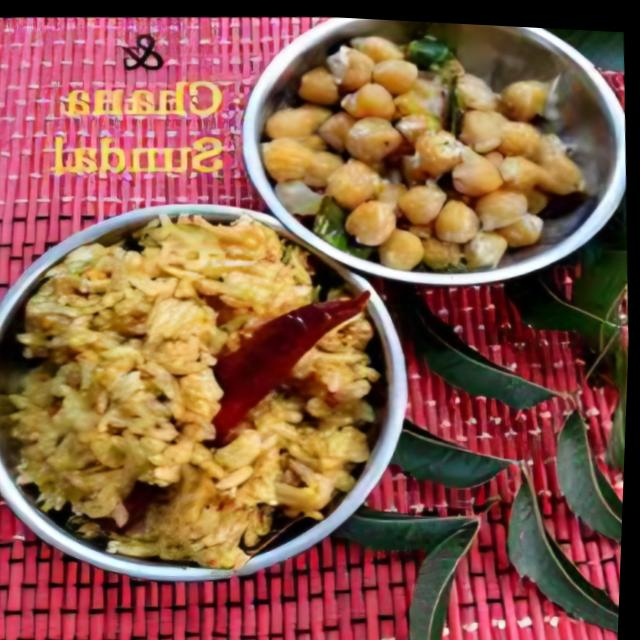RICE: (8, 208, 384, 570)
SUNDAL: (261, 28, 589, 269)
